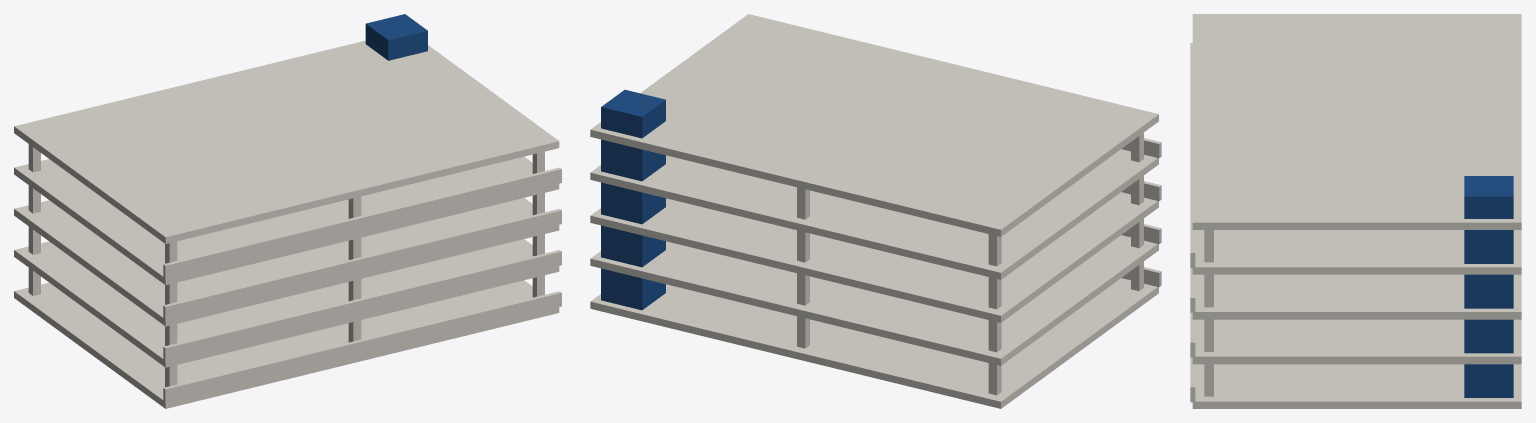
The model's file is parking_garage.glb.
3 views of the same model, side by side, from view 1: azimuth 30°, elevation 25°; view 2: azimuth 150°, elevation 25°; view 3: azimuth 270°, elevation 25° (orthographic). The views are drawn at different scales.
Parts seen in each view (by area): view 1: parking_garage_concrete, parking_garage_garda_blue; view 2: parking_garage_concrete, parking_garage_garda_blue; view 3: parking_garage_concrete, parking_garage_garda_blue.
Part boxes in pixels (left/top/right/bottom): parking_garage_concrete: left=14, top=40, right=561, bottom=408; parking_garage_garda_blue: left=365, top=14, right=427, bottom=60; parking_garage_concrete: left=590, top=14, right=1161, bottom=408; parking_garage_garda_blue: left=601, top=89, right=665, bottom=310; parking_garage_concrete: left=1190, top=14, right=1521, bottom=408; parking_garage_garda_blue: left=1464, top=176, right=1513, bottom=397.
Size of the model in its own units: 30.2 by 14 by 20.15.
